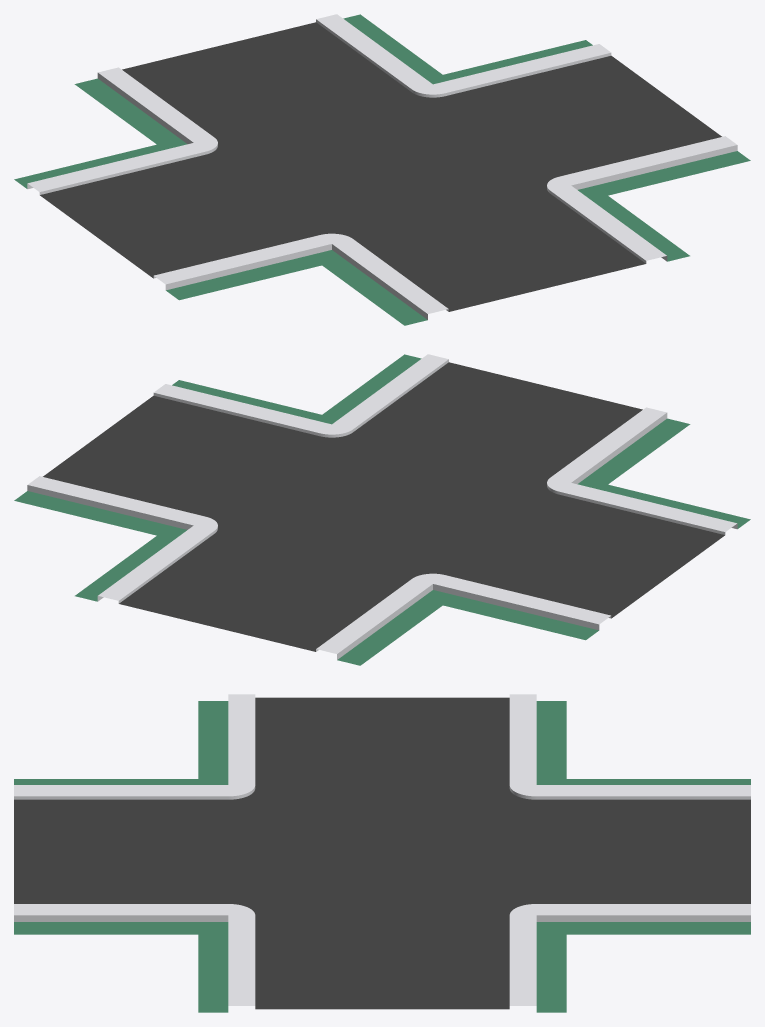
The model's file is roadCrossing.obj.
3 views of the same model, one above another, from view 1: azimuth 30°, elevation 25°; view 2: azimuth 150°, elevation 25°; view 3: azimuth 270°, elevation 25° (orthographic). The views are drawn at different scales.
Visible parts, largest first — view 1: roadCrossing; view 2: roadCrossing; view 3: roadCrossing.
Part boxes in pixels (x1,y1,x2,y2): roadCrossing: [14, 14, 750, 325]; roadCrossing: [14, 354, 750, 665]; roadCrossing: [14, 694, 750, 1012].
Bounding box in the file's own units: 2 × 0.02 × 2.
